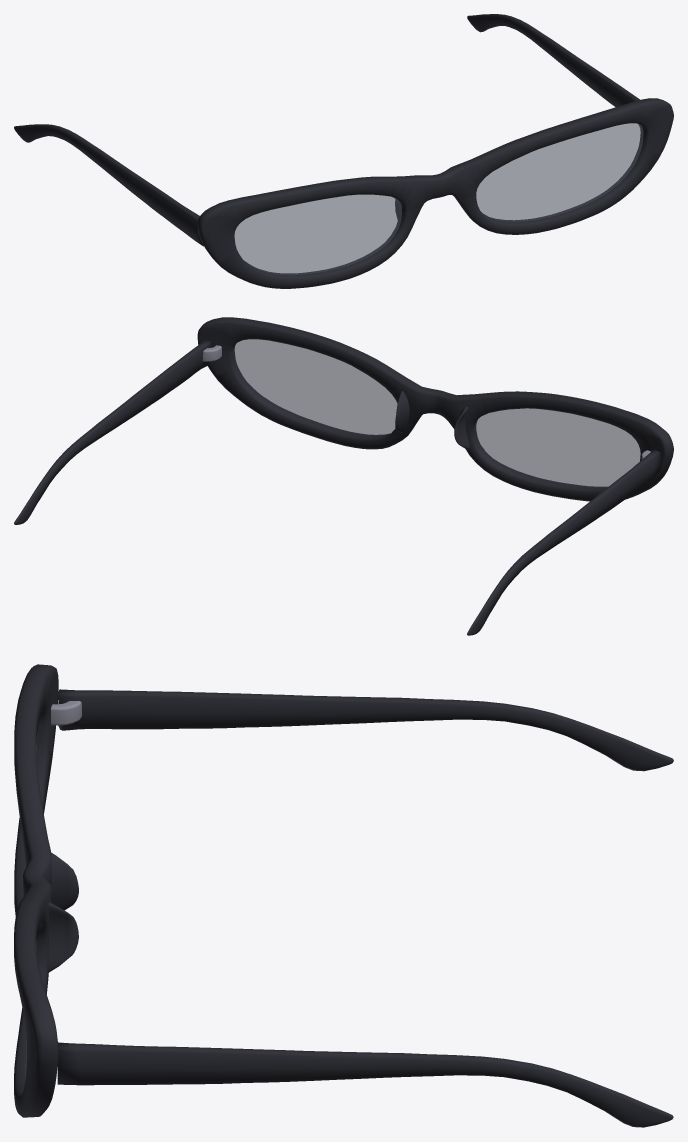
The model's file is rich-black.glb.
3 views of the same model, one above another, from view 1: azimuth 30°, elevation 25°; view 2: azimuth 150°, elevation 25°; view 3: azimuth 270°, elevation 25° (orthographic). The views are drawn at different scales.
Visible parts, largest first — view 1: model_7.003; view 2: model_7.003; view 3: model_7.003.
Part boxes in pixels (x1,y1,x2,y2): model_7.003: (14,14,673,288); model_7.003: (14,317,673,635); model_7.003: (14,664,673,1127).
Bounding box in the file's own units: 2.24 × 0.4582 × 1.68.
